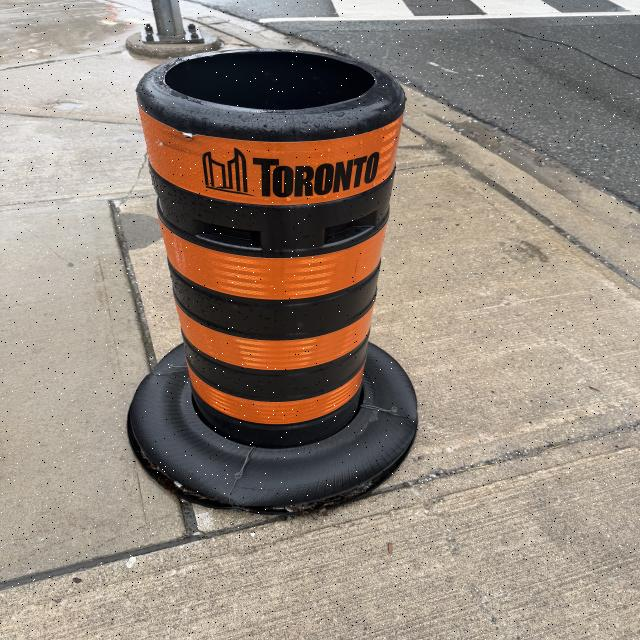Teraffic Barrel: (129, 50, 417, 512)
